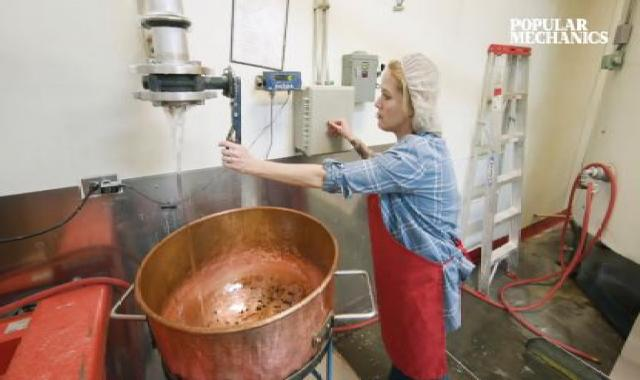hairnet: (380, 56, 447, 136)
